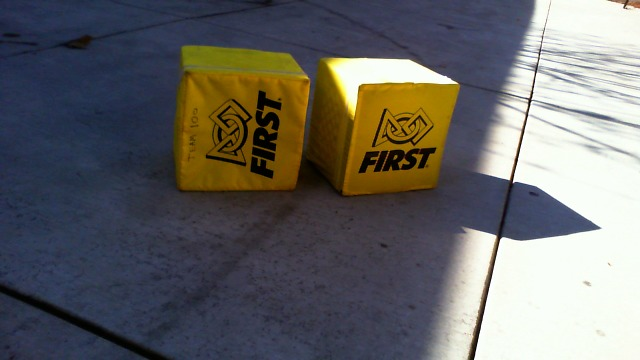cube: (172, 45, 311, 205), (314, 58, 462, 202)
